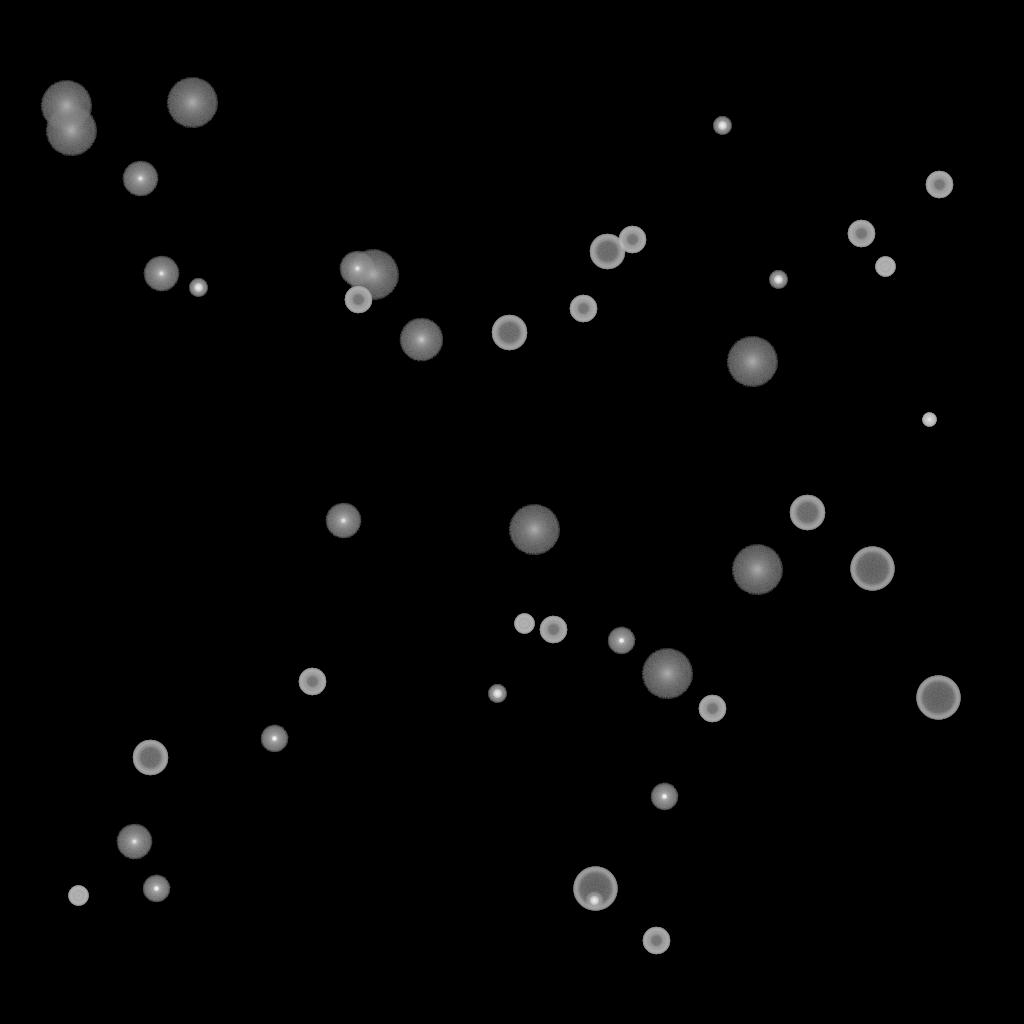depth:-10: (260, 725, 288, 753), (142, 875, 170, 903), (607, 627, 635, 655), (650, 783, 678, 811)
depth:-20: (585, 892, 603, 910), (769, 271, 787, 289), (713, 117, 731, 135), (189, 279, 207, 297), (488, 685, 506, 703)
depth:-30: (922, 413, 936, 427)
depth:-40: (68, 886, 88, 906), (875, 257, 895, 277), (514, 614, 534, 634)
depth:-50: (569, 295, 597, 323), (925, 171, 953, 199), (618, 226, 646, 254), (298, 668, 326, 696), (698, 695, 726, 723), (344, 286, 372, 314), (642, 927, 670, 955), (847, 220, 875, 248), (539, 616, 567, 644)
depth:-60: (132, 740, 168, 776), (491, 315, 527, 351), (589, 234, 625, 270), (789, 495, 825, 531)
depth:-70: (850, 547, 894, 591), (916, 676, 960, 720), (573, 867, 617, 911)
depth:0: (116, 824, 152, 860), (122, 161, 158, 197), (325, 503, 361, 539), (339, 251, 375, 287), (143, 256, 179, 292)
depth:10: (399, 318, 443, 362)
depth:20: (166, 78, 218, 128), (726, 337, 778, 387), (347, 250, 399, 300), (45, 106, 97, 156), (641, 649, 693, 699), (508, 505, 560, 555), (731, 545, 783, 595), (40, 81, 92, 131)
